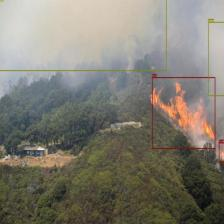fire: (152, 77, 215, 148), (218, 142, 224, 162)
smoke: (0, 0, 167, 71), (208, 22, 224, 96)
